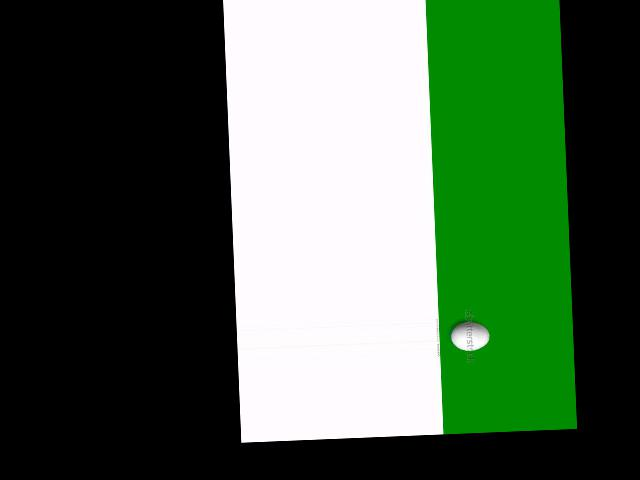egg: (450, 321, 489, 351)
